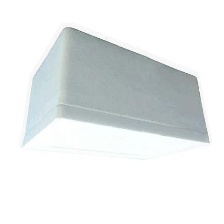foam_box: (16, 23, 214, 171)
